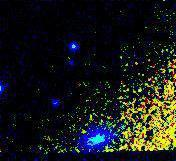star: (66, 117, 96, 147)
